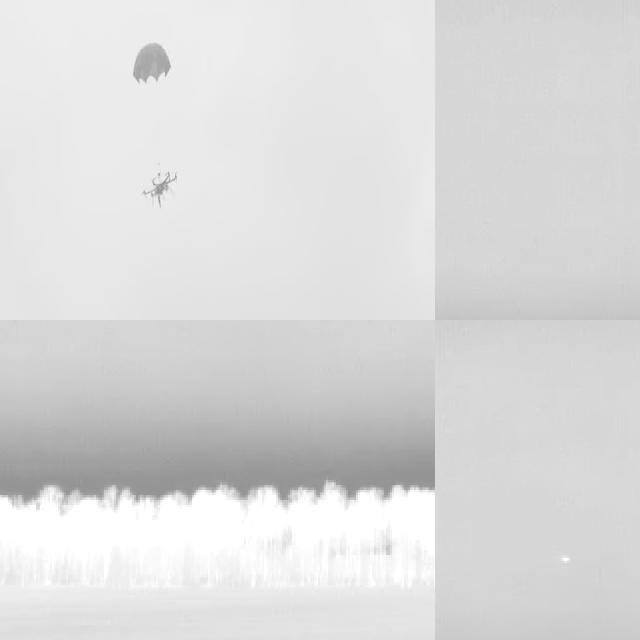1: (554, 546, 586, 580)
drone: (137, 164, 180, 207)
